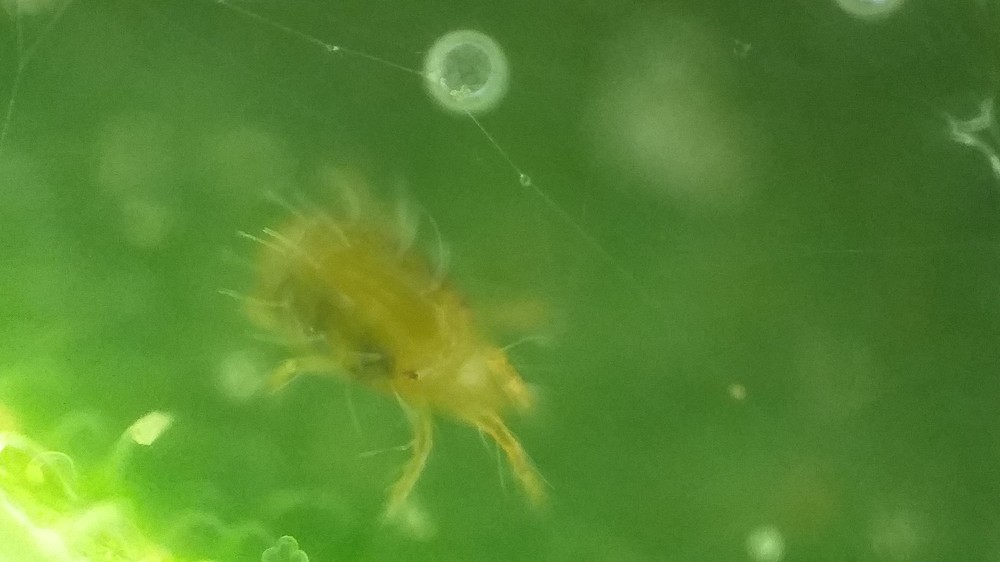Aracnido Rojo: (229, 170, 623, 529)
